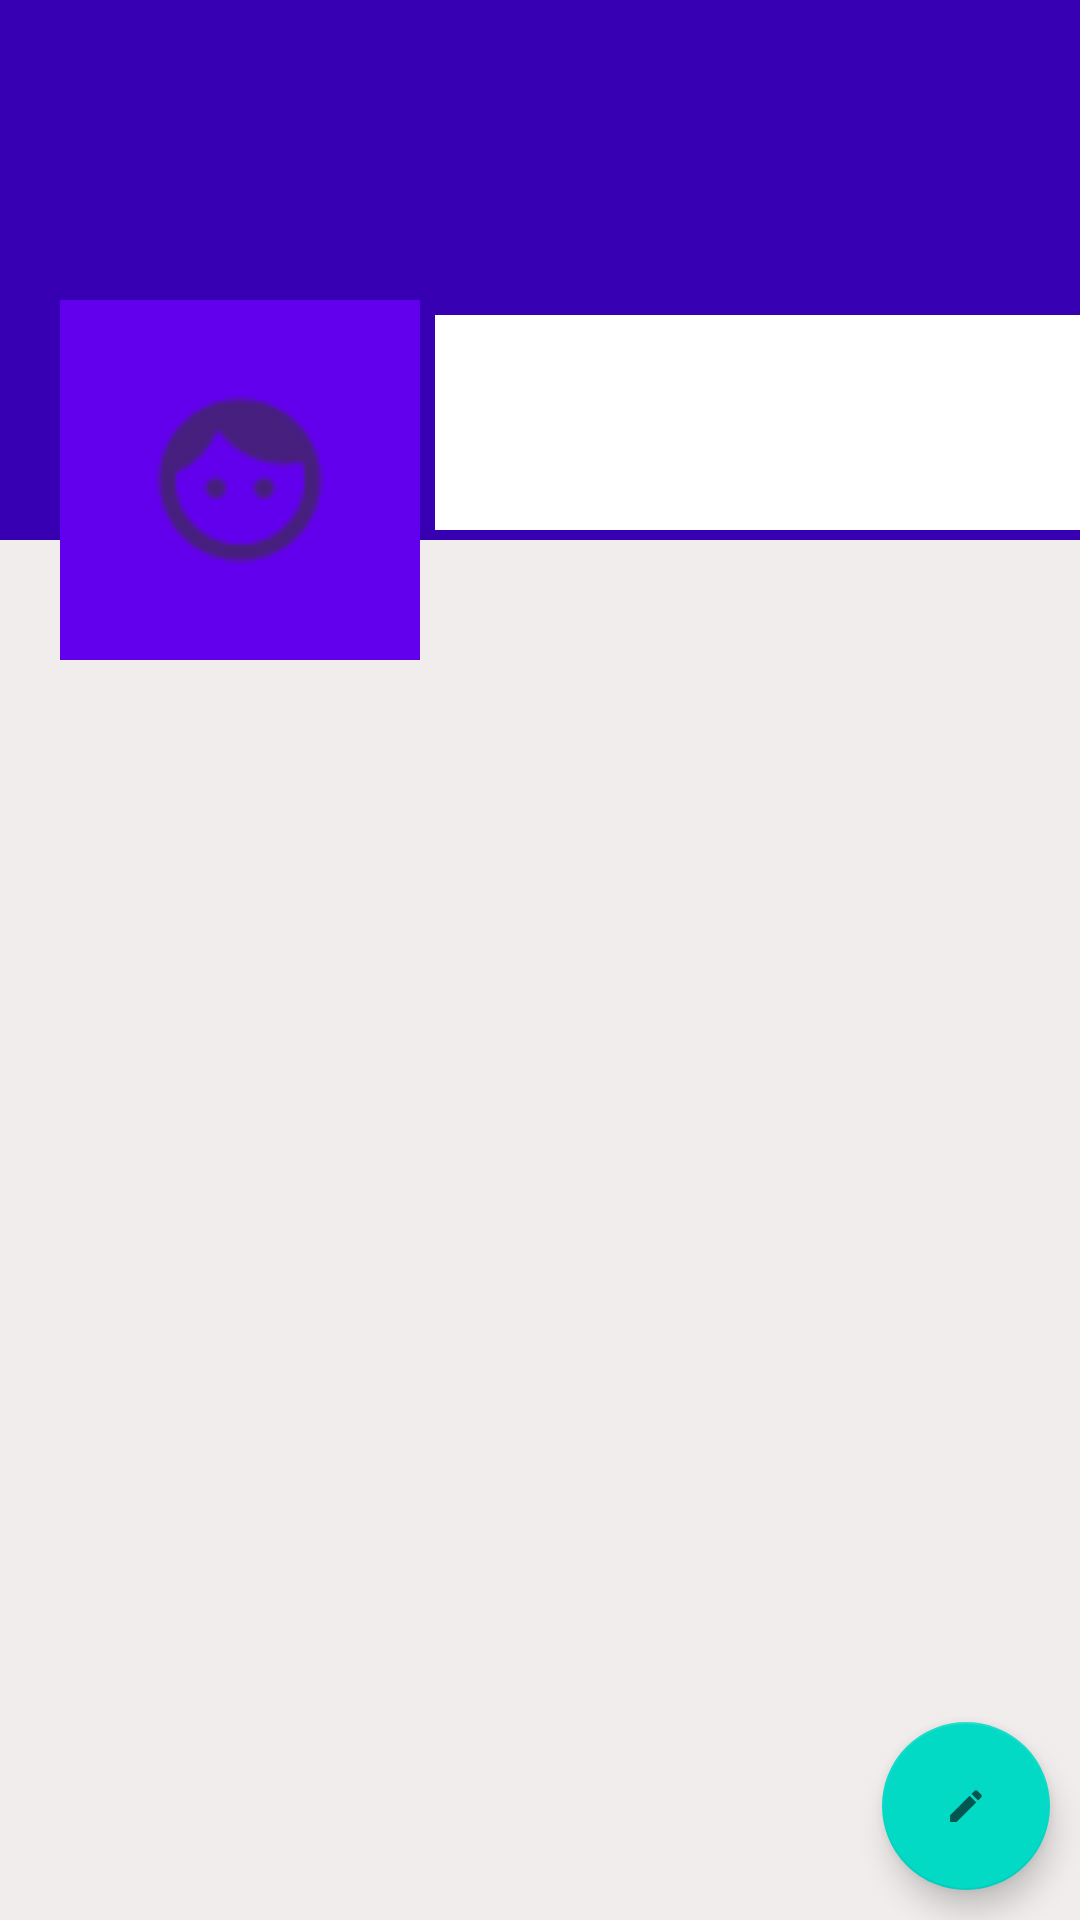

Screen size 1080*1920. Icon name, then its center in pixels as [x,y]:
edit: [966,1806]
edit face: [240,480]
